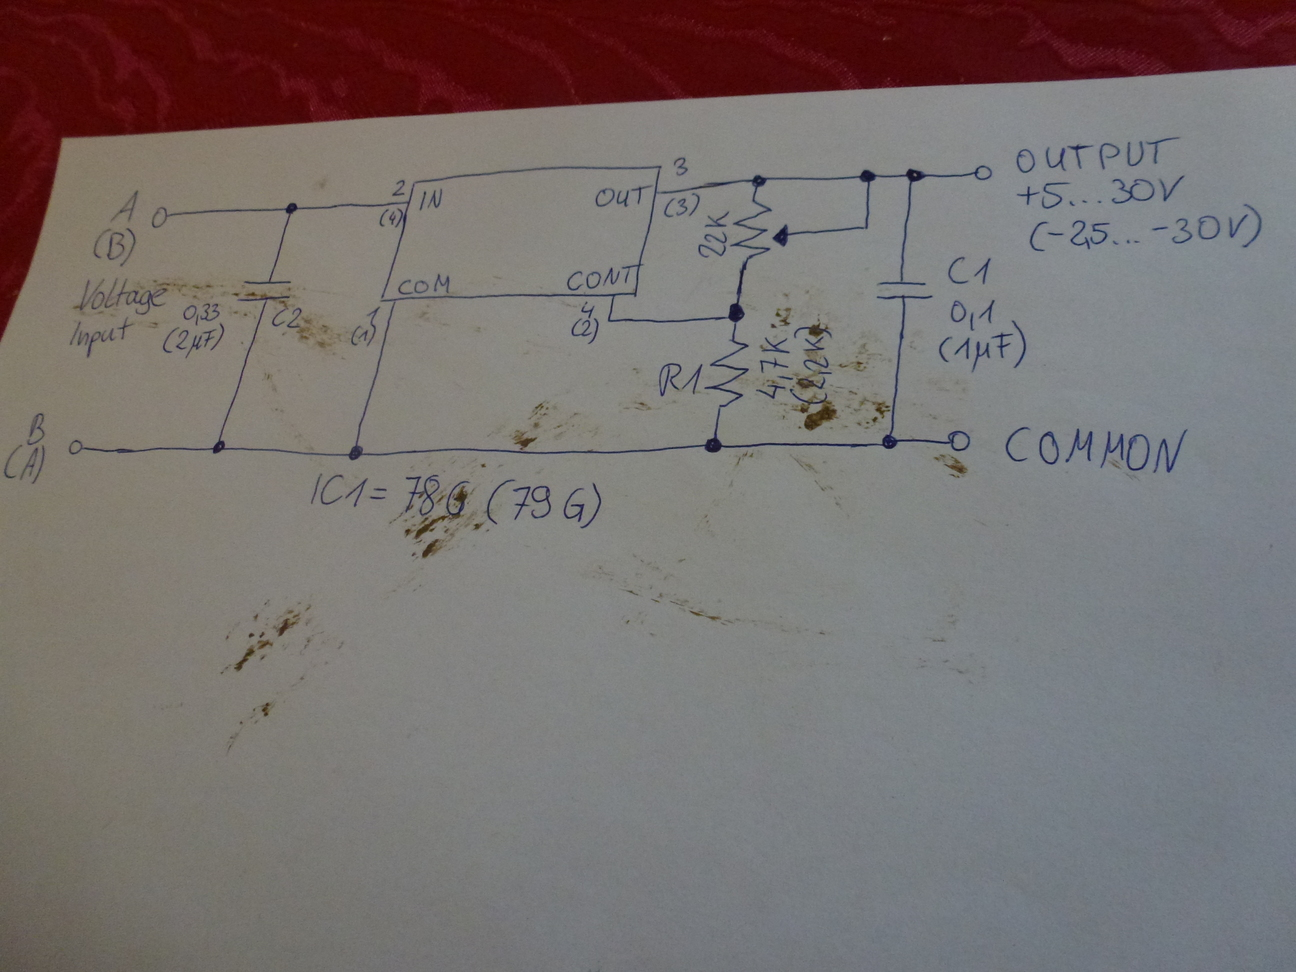capacitor.unpolarized: (237, 276, 294, 306), (874, 276, 933, 303)
integrated_circuit: (375, 163, 665, 306)
junction: (702, 433, 726, 457), (724, 301, 747, 325), (879, 430, 901, 454), (902, 165, 927, 184), (346, 442, 365, 461), (748, 171, 766, 189), (858, 167, 877, 185), (209, 439, 227, 456), (283, 200, 298, 216), (859, 218, 873, 233), (603, 313, 614, 328)
resistor: (702, 335, 752, 409)
resistor.adjustable: (729, 195, 793, 268)
terminal: (963, 160, 1002, 185), (943, 425, 973, 456), (146, 202, 173, 230), (65, 435, 89, 458)
text: (303, 466, 605, 534), (1027, 201, 1264, 255), (1000, 421, 1185, 478), (1014, 171, 1187, 211), (1014, 133, 1183, 174), (935, 318, 1030, 374), (74, 272, 169, 317), (789, 324, 835, 405), (65, 315, 135, 358), (754, 332, 795, 402), (566, 260, 643, 294), (160, 323, 225, 360), (89, 226, 140, 269), (2, 444, 47, 487), (696, 207, 732, 260), (653, 360, 703, 398), (945, 253, 994, 289), (949, 298, 998, 330), (595, 184, 646, 209), (108, 184, 140, 224), (399, 273, 451, 296), (181, 298, 223, 325), (661, 194, 703, 220), (24, 410, 52, 448), (570, 315, 601, 346), (269, 305, 307, 330), (349, 323, 378, 348), (415, 187, 445, 211), (377, 205, 404, 229), (670, 155, 689, 177), (363, 304, 382, 325), (579, 299, 597, 319), (390, 180, 407, 200)
